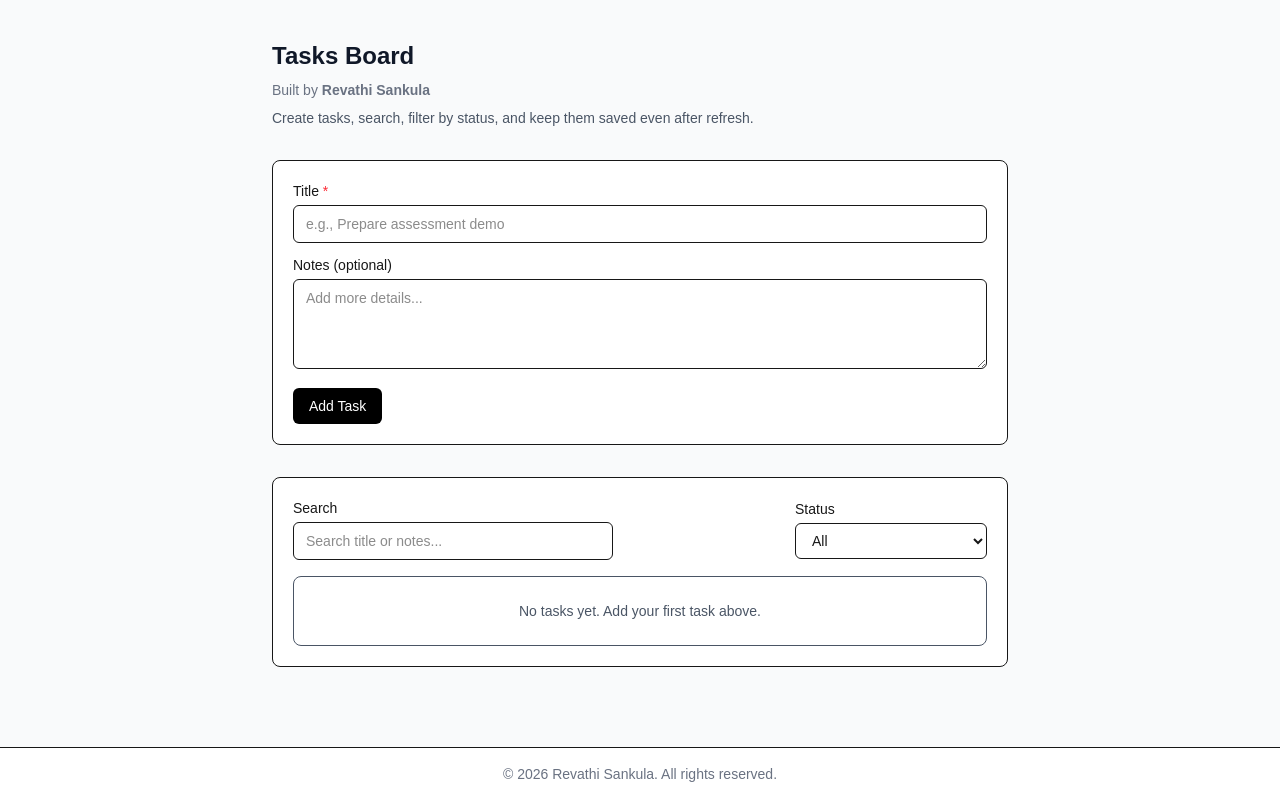
Test: Tasks Board workflow › adds a task successfully
The width and height of the screenshot is (1280, 800).
Type "Buy milk" into the field labelled "Title *" at (640, 224), box x1=293 y1=205 x2=987 y2=243
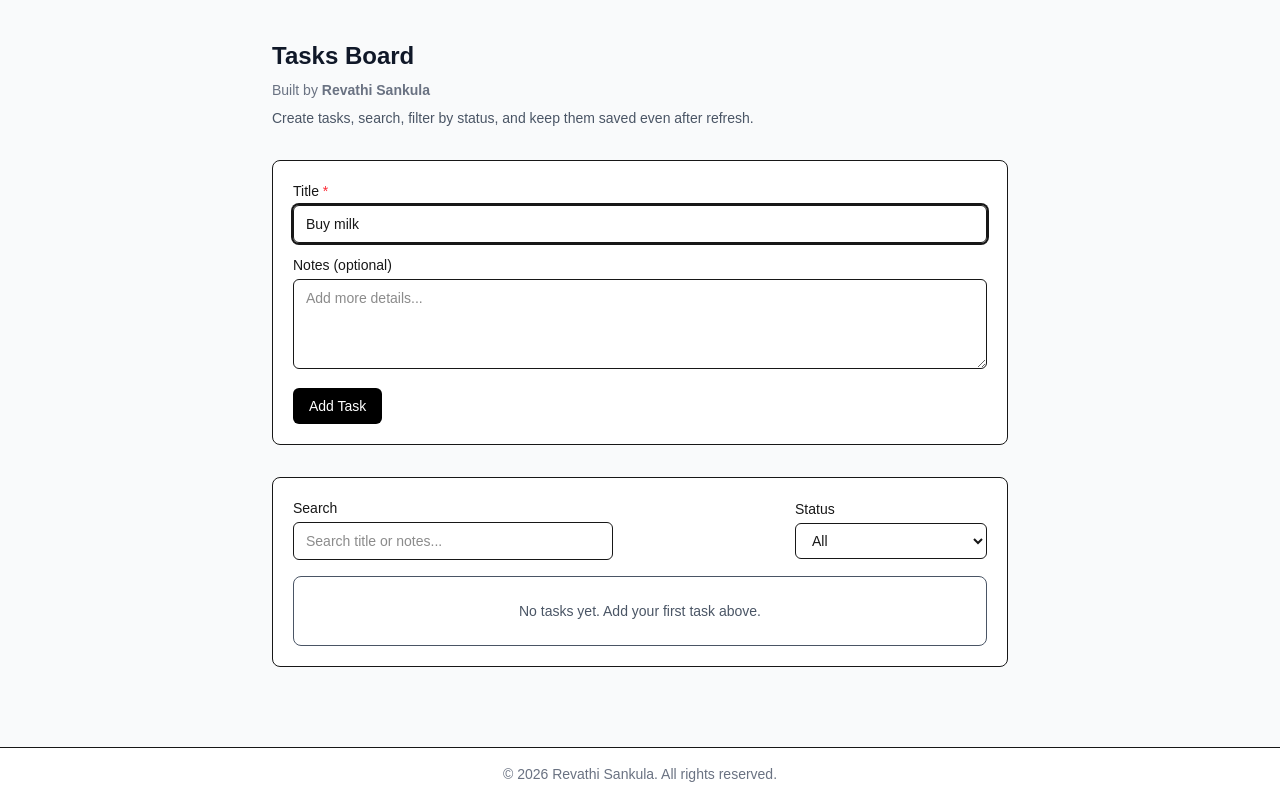
Type "Costco" into the text box labelled "Notes (optional)" at (640, 324), box x1=293 y1=279 x2=987 y2=369
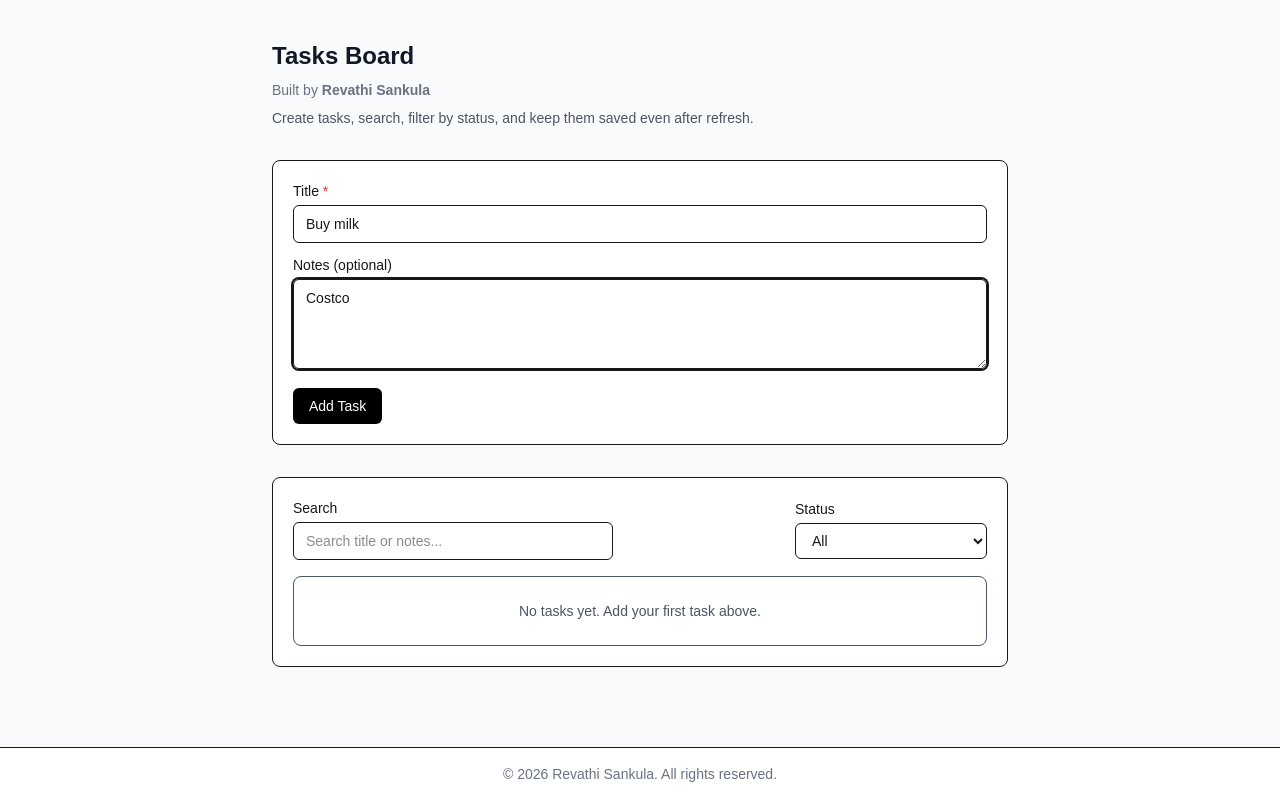
Click the button "Add Task" at (338, 406), box x1=293 y1=388 x2=382 y2=424
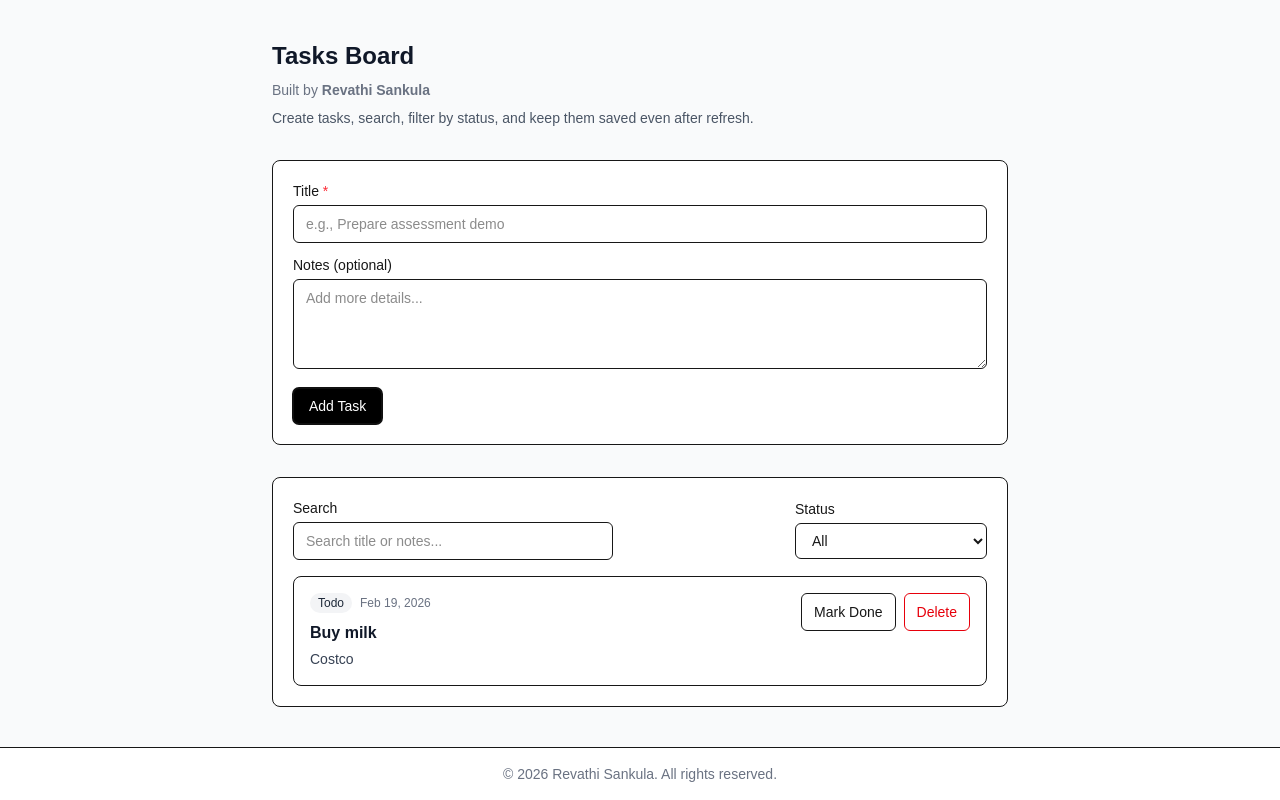
expect the heading "Buy milk" is shown: met, box x1=310 y1=624 x2=377 y2=641
expect the text "Costco" is shown: met, box x1=310 y1=651 x2=354 y2=667
